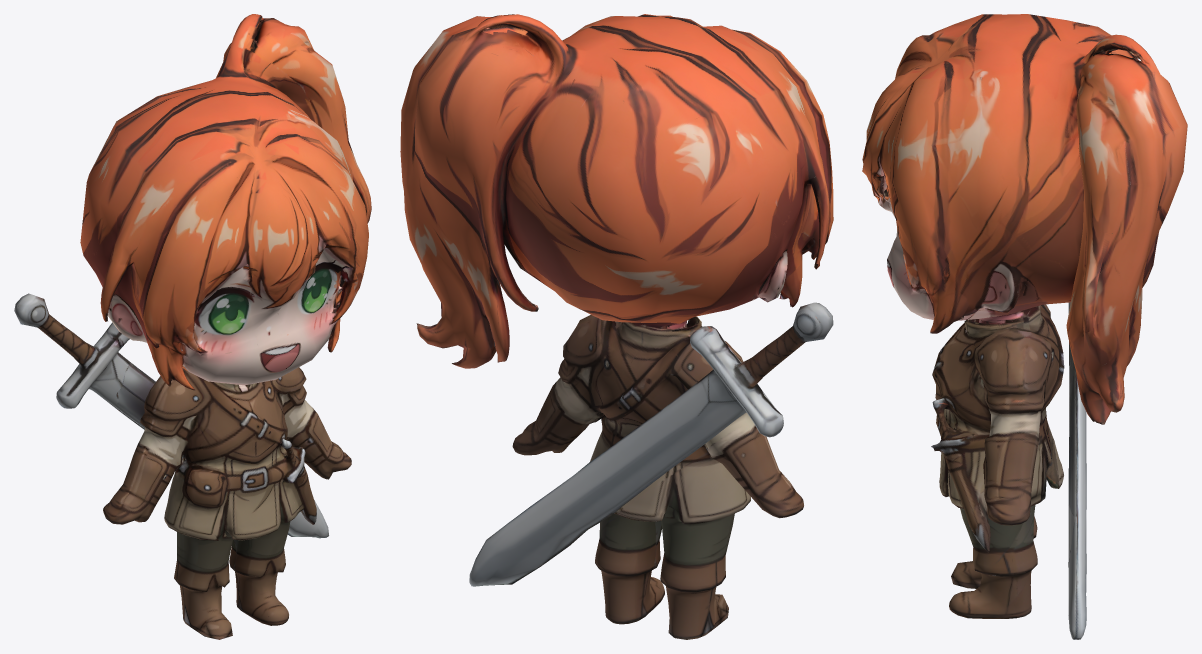
The model's file is fighter.glb.
3 views of the same model, side by side, from view 1: azimuth 30°, elevation 25°; view 2: azimuth 150°, elevation 25°; view 3: azimuth 270°, elevation 25° (orthographic). The views are drawn at different scales.
Bounding box in the file's own units: 1.33 × 1.91 × 0.9388.
Materials: 1 (1 with a texture image).
